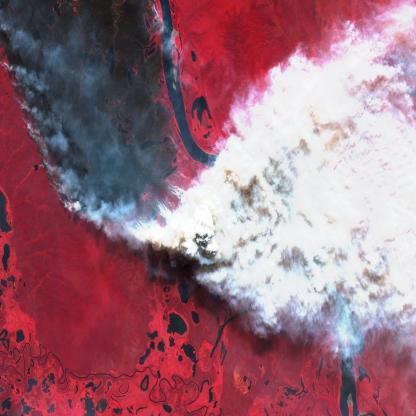fire: (0, 0, 223, 263)
